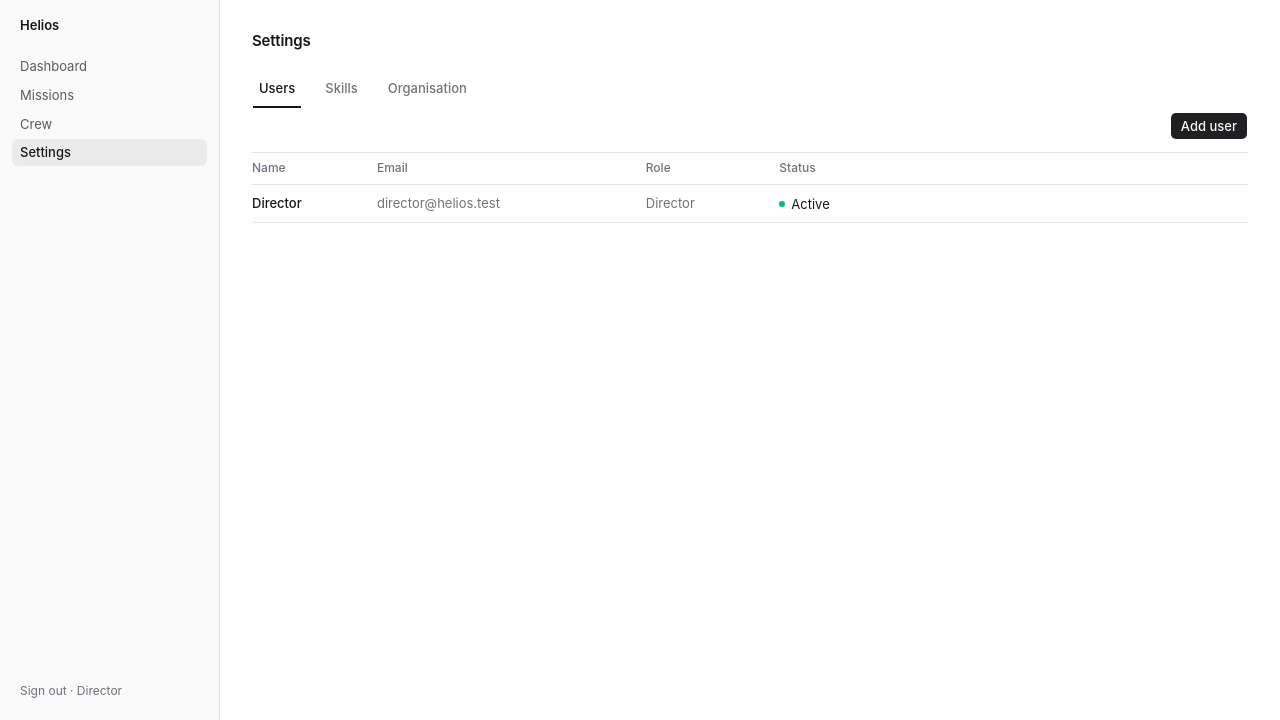
Test case: settings › director views and renames the organisation
The width and height of the screenshot is (1280, 720).
Step 1. Click the tab "Organisation" → (427, 88), box [381, 72, 474, 104]
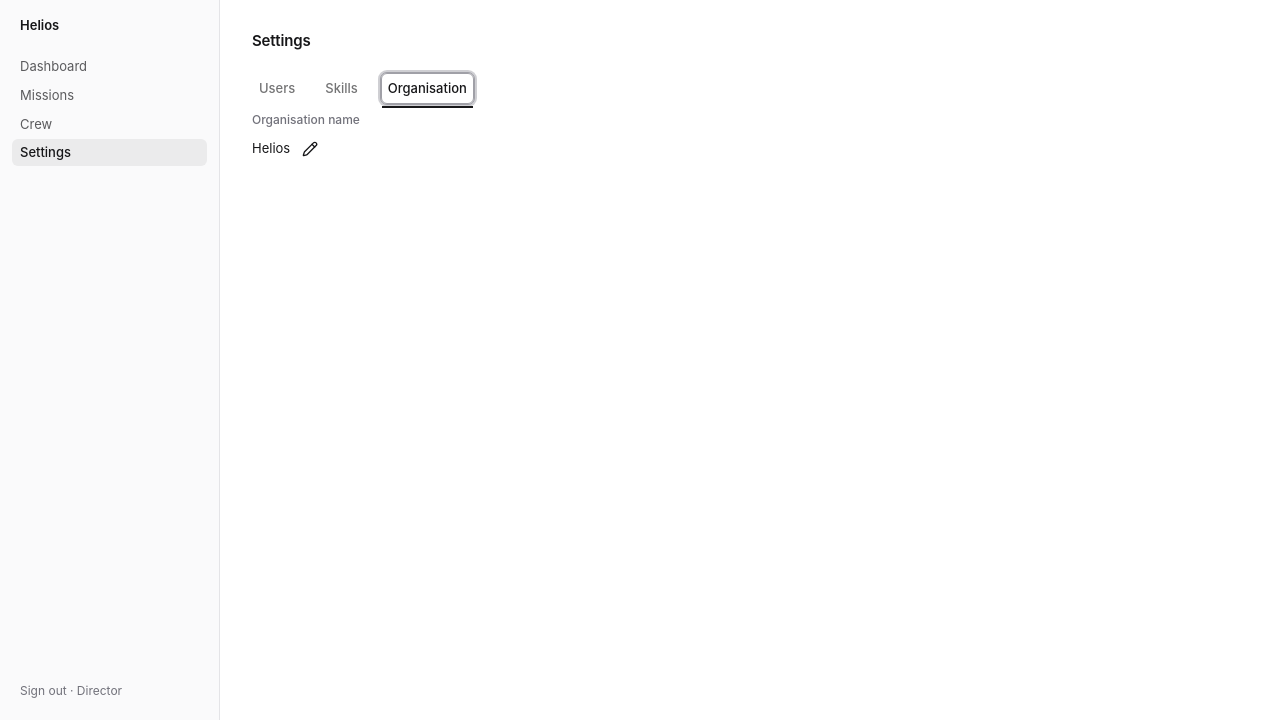
Expected: the text "Helios" below "Organisation name" is shown, [252, 140, 290, 156]
Step 2. Click the button named "edit organisation name" → (310, 149), box [298, 137, 322, 161]
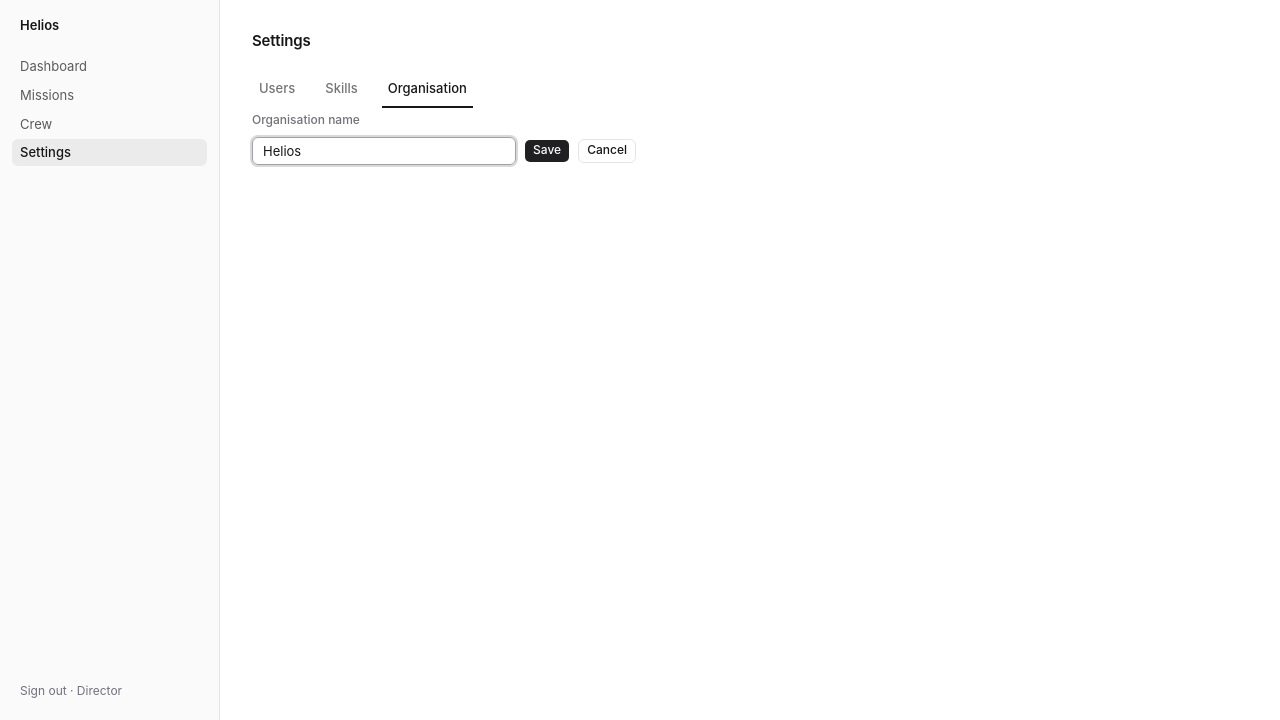
Step 3. Replace the text in the field named "organisation name" with "Helios Corp" → (384, 151), box [252, 137, 516, 165]
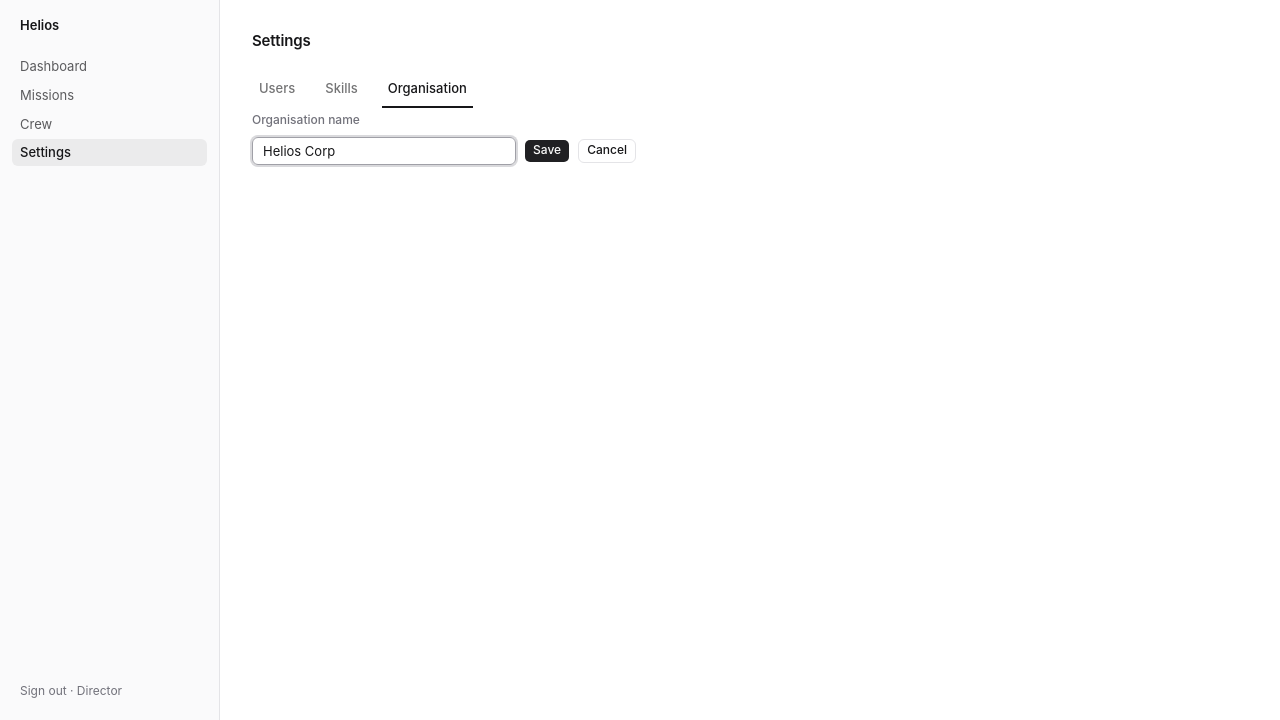
Step 4. Click the button "Save" → (547, 151), box [524, 139, 570, 163]
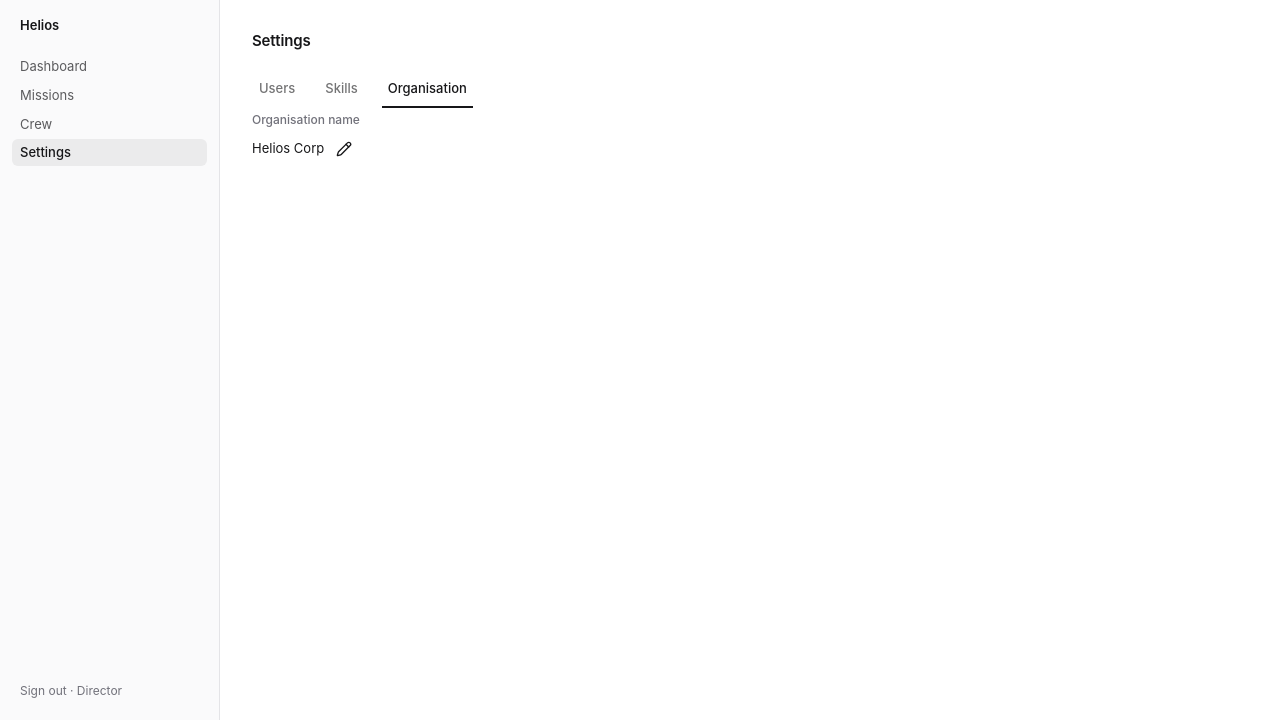
Expected: the text "Helios Corp" is shown, [252, 139, 324, 158]
